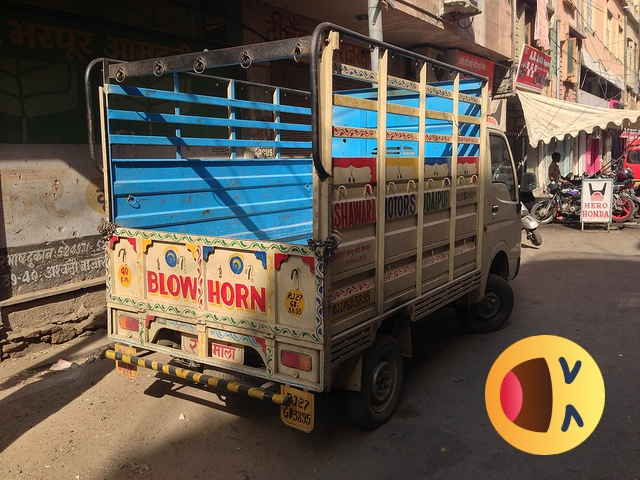haha: (485, 335, 605, 455)
